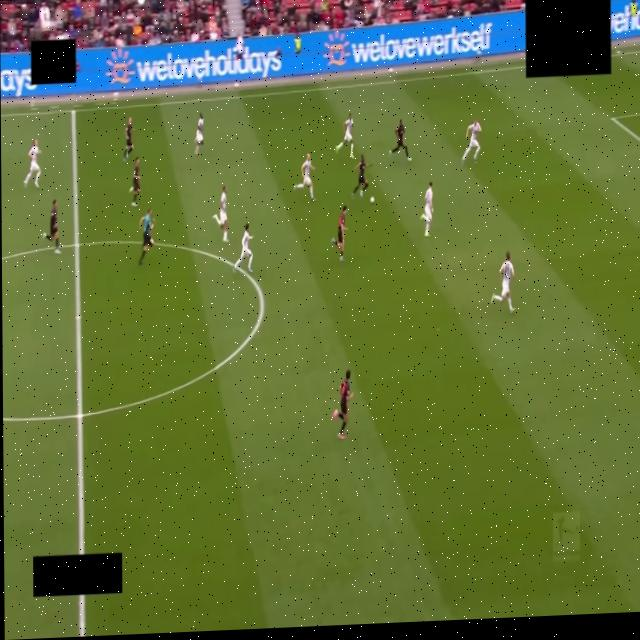ball: (371, 197, 375, 204)
player: (491, 251, 514, 312), (333, 370, 353, 440), (294, 154, 315, 201), (233, 223, 252, 272), (43, 200, 60, 254), (389, 119, 410, 161), (213, 186, 228, 242), (332, 206, 347, 261), (352, 154, 371, 197), (462, 121, 481, 164), (335, 114, 353, 158), (24, 139, 40, 187), (421, 182, 433, 236), (129, 157, 139, 206), (123, 118, 133, 161), (195, 112, 203, 155)
referee: (139, 209, 154, 264)
